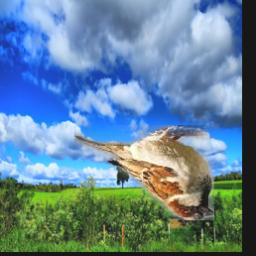Sparrow: (73, 125, 213, 220)
